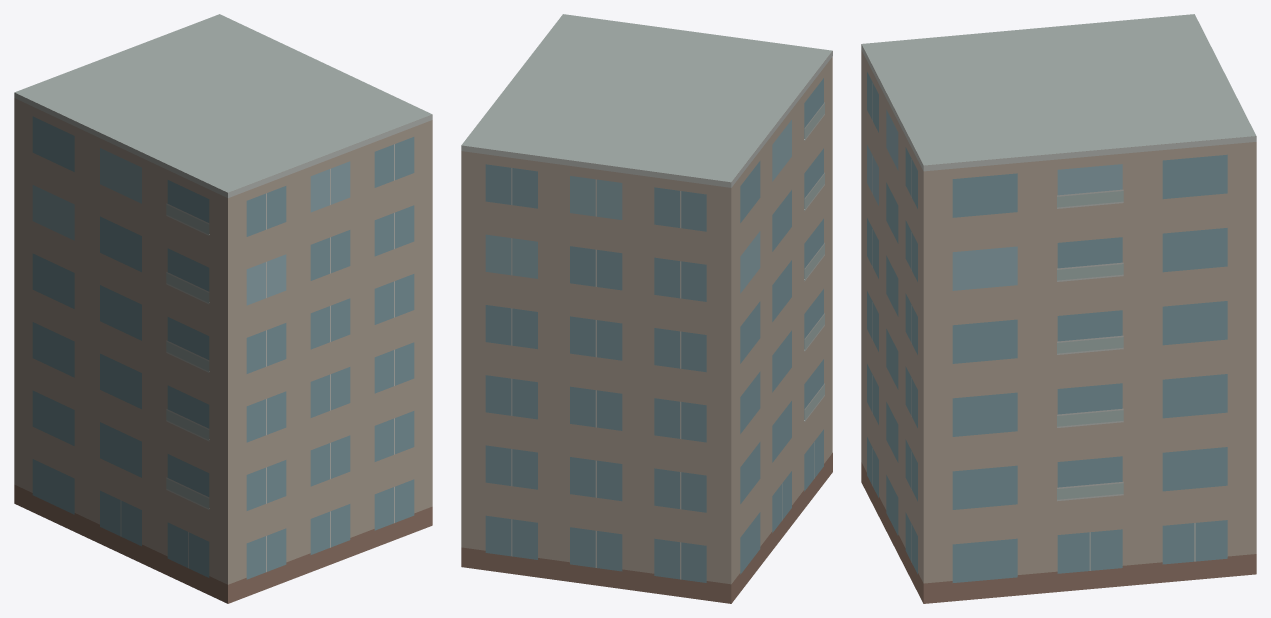
Rendered from survey-upis-32928106.glb.
3 views of the same model, side by side, from view 1: azimuth 30°, elevation 25°; view 2: azimuth 150°, elevation 25°; view 3: azimuth 270°, elevation 25° (orthographic). The views are drawn at different scales.
Visible parts, largest first — view 1: survey-upis-32928106.tmp; view 2: survey-upis-32928106.tmp; view 3: survey-upis-32928106.tmp.
Part boxes in pixels (box(x1,y1,x2,y2)): survey-upis-32928106.tmp: box(14, 14, 432, 603); survey-upis-32928106.tmp: box(461, 14, 832, 603); survey-upis-32928106.tmp: box(861, 14, 1256, 603).
Size of the model in its own units: 13.58 by 18.3 by 14.96.
